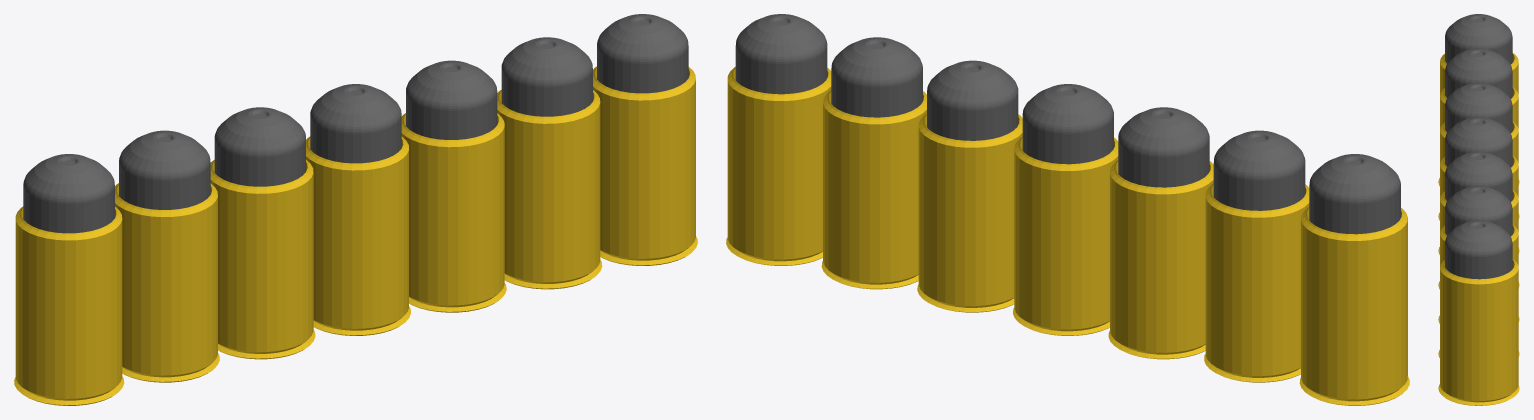
The model's file is Ammo.fbx.
The picture shows the model from 3 angles, left to right: view 1: azimuth 30°, elevation 25°; view 2: azimuth 150°, elevation 25°; view 3: azimuth 270°, elevation 25°; orthographic projection. The views are drawn at different scales.
Parts seen in each view (by area): view 1: Bullet; view 2: Bullet; view 3: Bullet.
Part boxes in pixels (box(x1,y1,x2,y2)): Bullet: box(14, 14, 697, 405); Bullet: box(726, 14, 1409, 405); Bullet: box(1438, 14, 1519, 405).
Size of the model in its own units: 1447 by 460 by 207.
